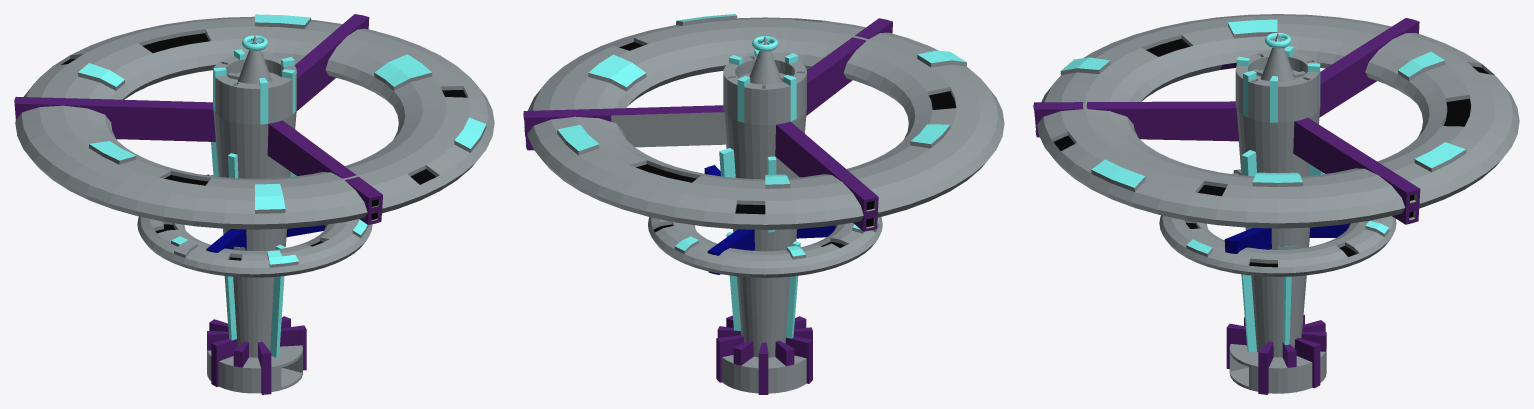
File: Starbase_1_.fbx
3 views of the same model, side by side, from view 1: azimuth 30°, elevation 25°; view 2: azimuth 150°, elevation 25°; view 3: azimuth 270°, elevation 25° (orthographic).
Visible parts, largest first — view 1: Cylinder, Torus; view 2: Cylinder, Torus; view 3: Cylinder, Torus.
Boxes of the visible parts, bbox=[...] form: Cylinder: bbox=[14, 14, 494, 394]; Torus: bbox=[137, 175, 372, 277]; Cylinder: bbox=[523, 14, 1004, 394]; Torus: bbox=[648, 217, 882, 277]; Cylinder: bbox=[1033, 14, 1519, 394]; Torus: bbox=[1159, 169, 1396, 276].
Bounding box in the file's own units: 1141 × 889 × 1149.
